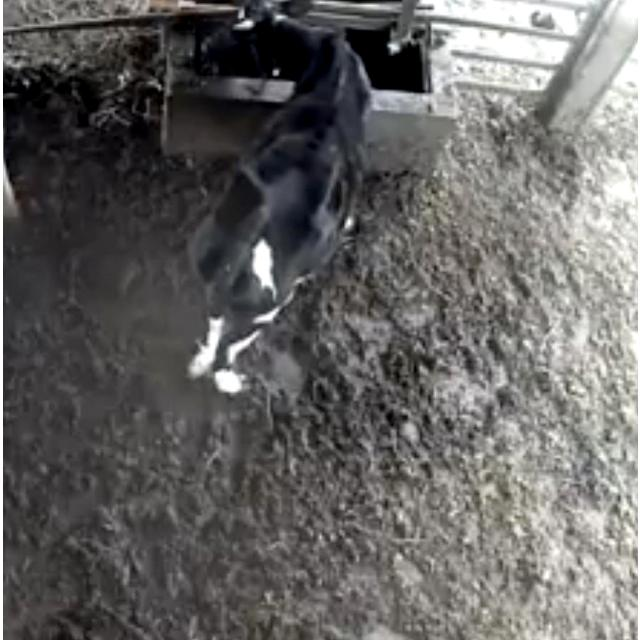drink: (192, 0, 378, 110)
